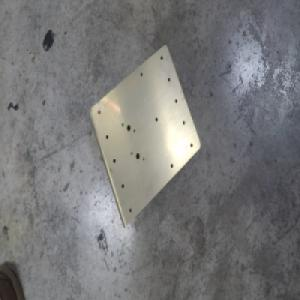MetalSheet: (86, 42, 202, 230)
